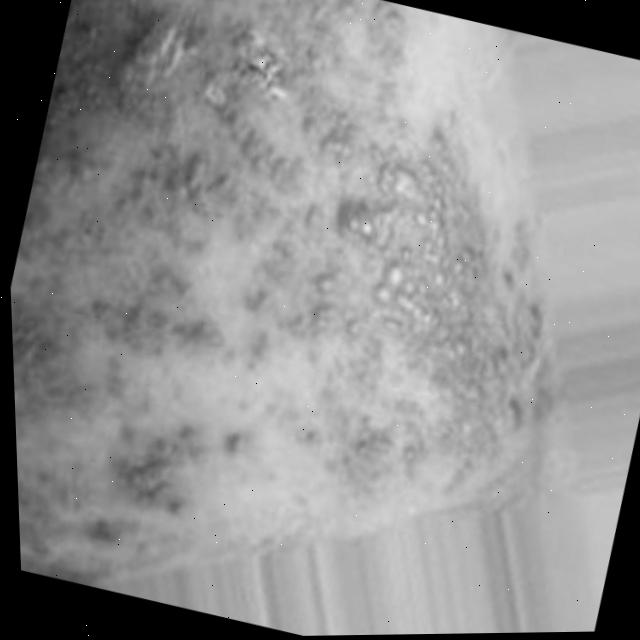Shingles: (0, 0, 632, 640)
